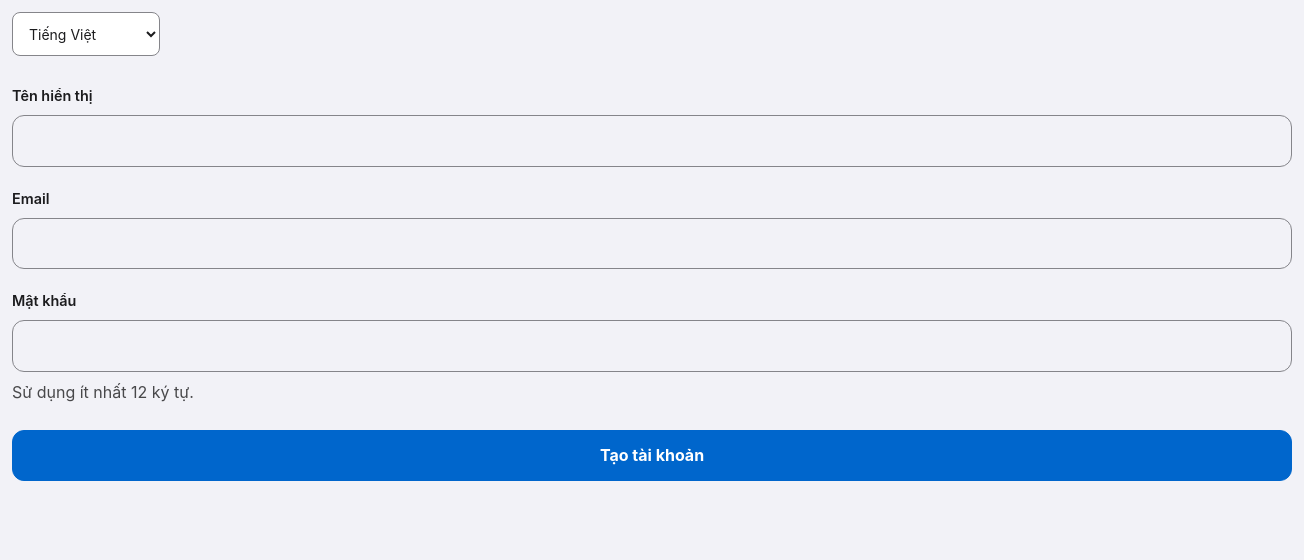
Scenario: localized authentication › updates labels and existing validation without resetting entered values
Type "an@example.com" into the field labelled "Email" at (652, 244), box left=12, top=218, right=1292, bottom=269
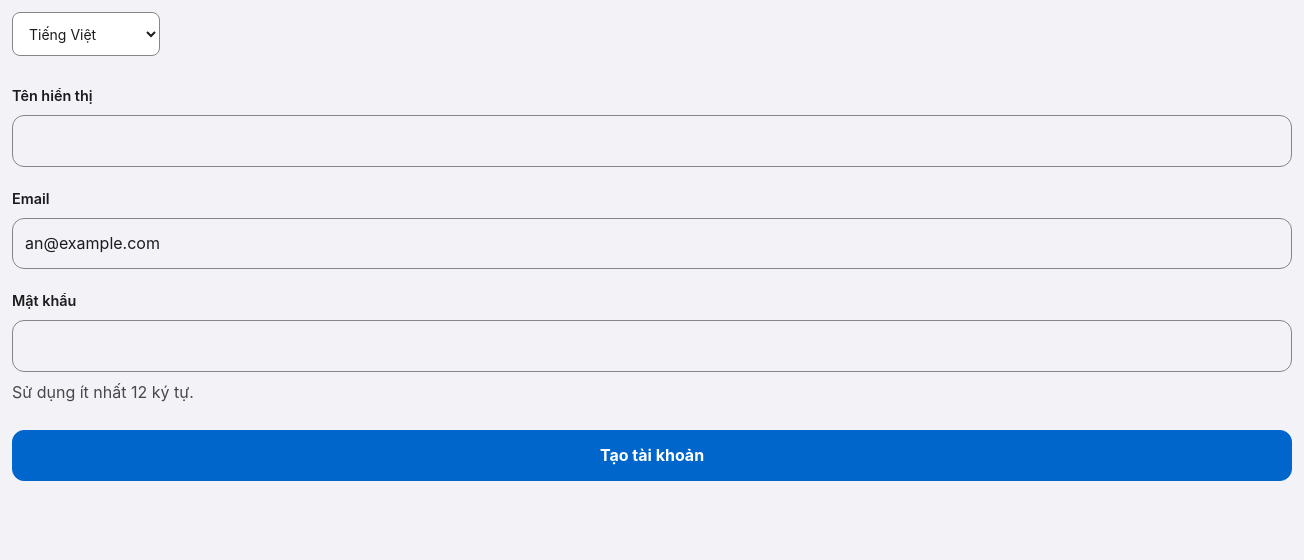
Click the button "Tạo tài khoản" at (652, 455), box left=12, top=430, right=1292, bottom=481
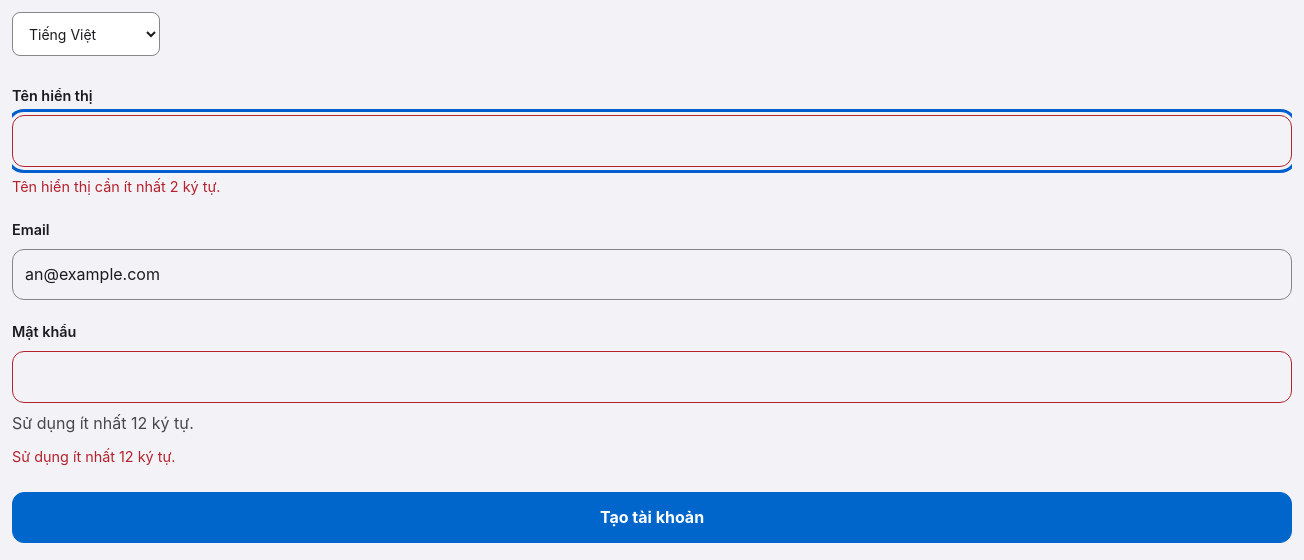
Expected: the text "Tên hiển thị cần ít nhất 2 ký tự." is shown, left=12, top=178, right=220, bottom=195
Select "English" in the dropdown at (86, 34), box left=12, top=12, right=160, bottom=56
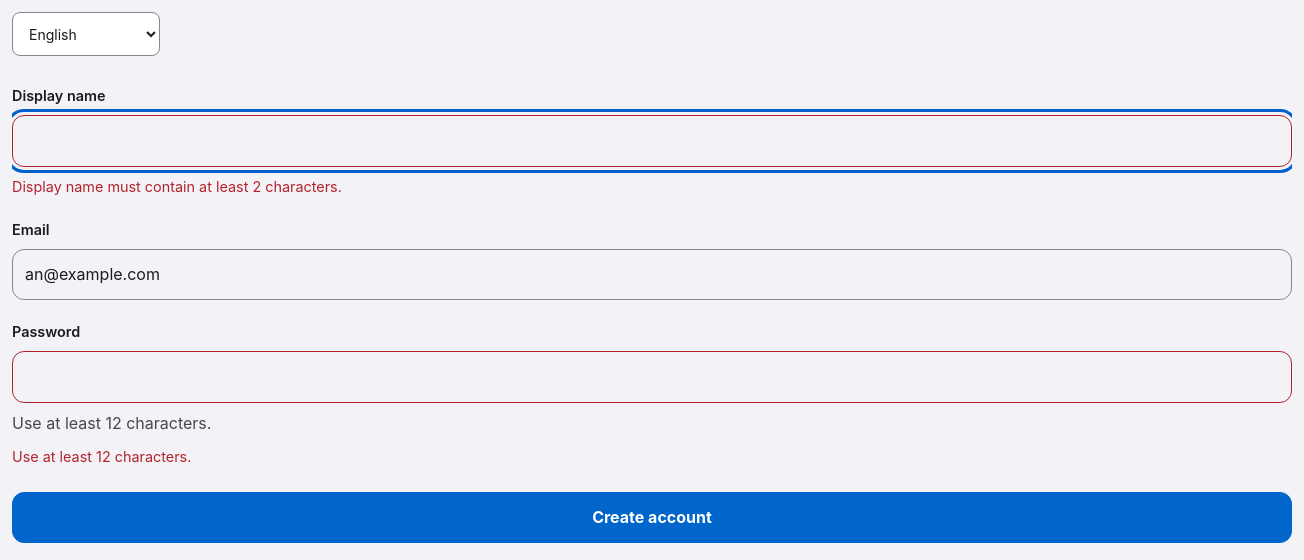
Expected: the password field labelled "Password" is empty, left=12, top=351, right=1292, bottom=403
Expected: the text "Display name must contain at least 2 characters." is shown, left=12, top=178, right=342, bottom=195
